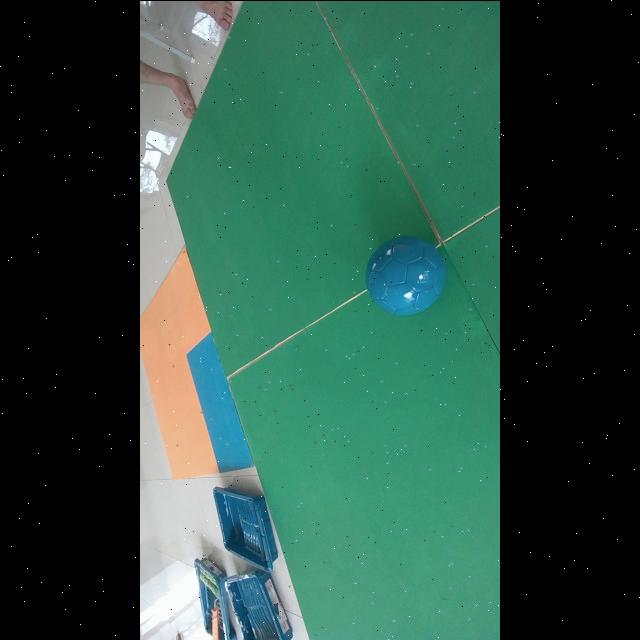B: (365, 235, 446, 314)
